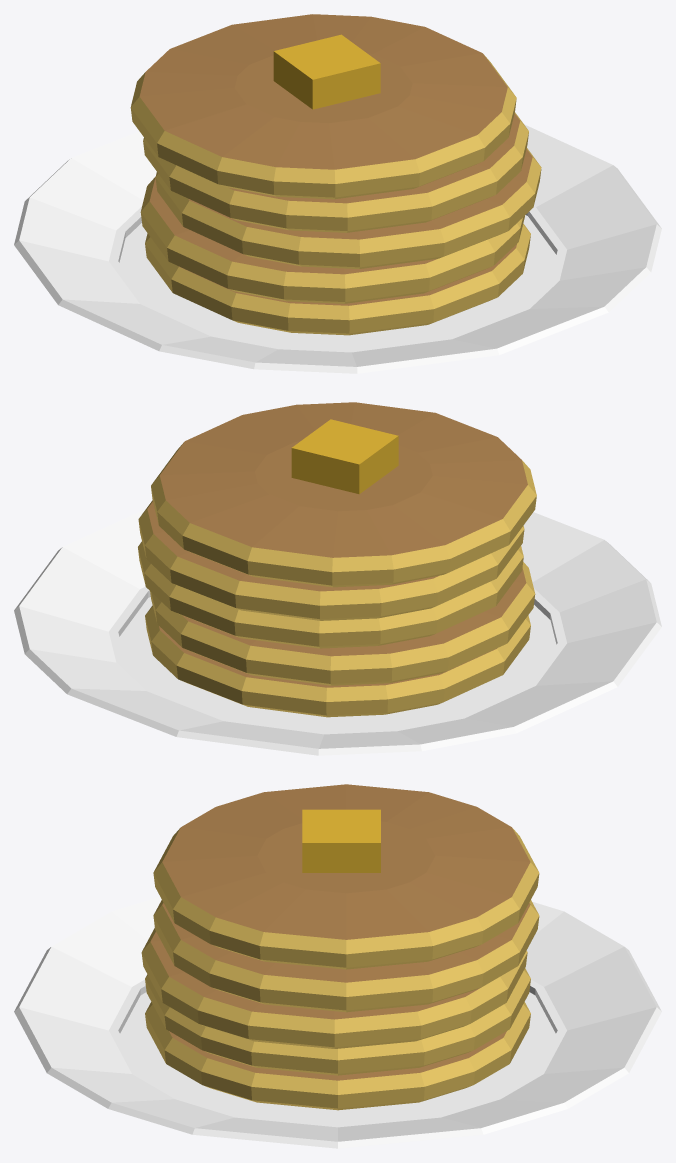
The model's file is pancakes.fbx.
The picture shows the model from 3 angles, top to bottom: view 1: azimuth 30°, elevation 25°; view 2: azimuth 150°, elevation 25°; view 3: azimuth 270°, elevation 25°; orthographic projection.
Visible parts, largest first — view 1: pancakes; view 2: pancakes; view 3: pancakes.
Boxes of the visible parts, left/top/right/bottom form: pancakes: left=14, top=14, right=661, bottom=373; pancakes: left=14, top=402, right=661, bottom=755; pancakes: left=14, top=784, right=661, bottom=1148.
Size of the model in its own units: 292 by 105 by 292.
